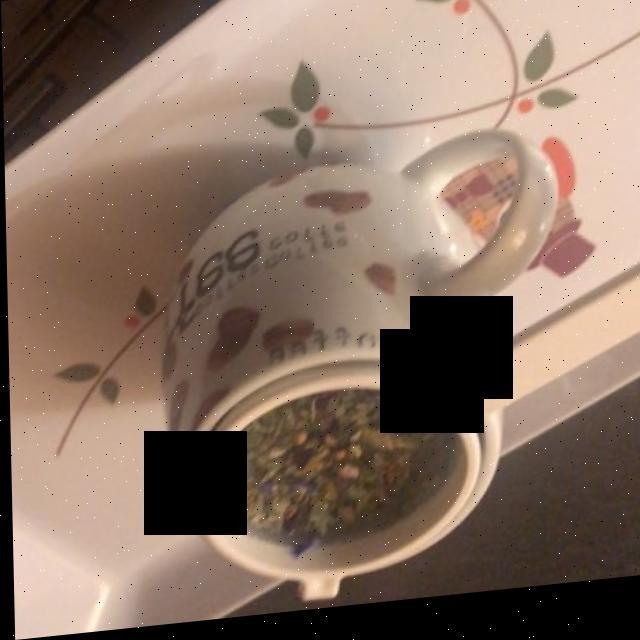tea: (212, 402, 440, 552)
